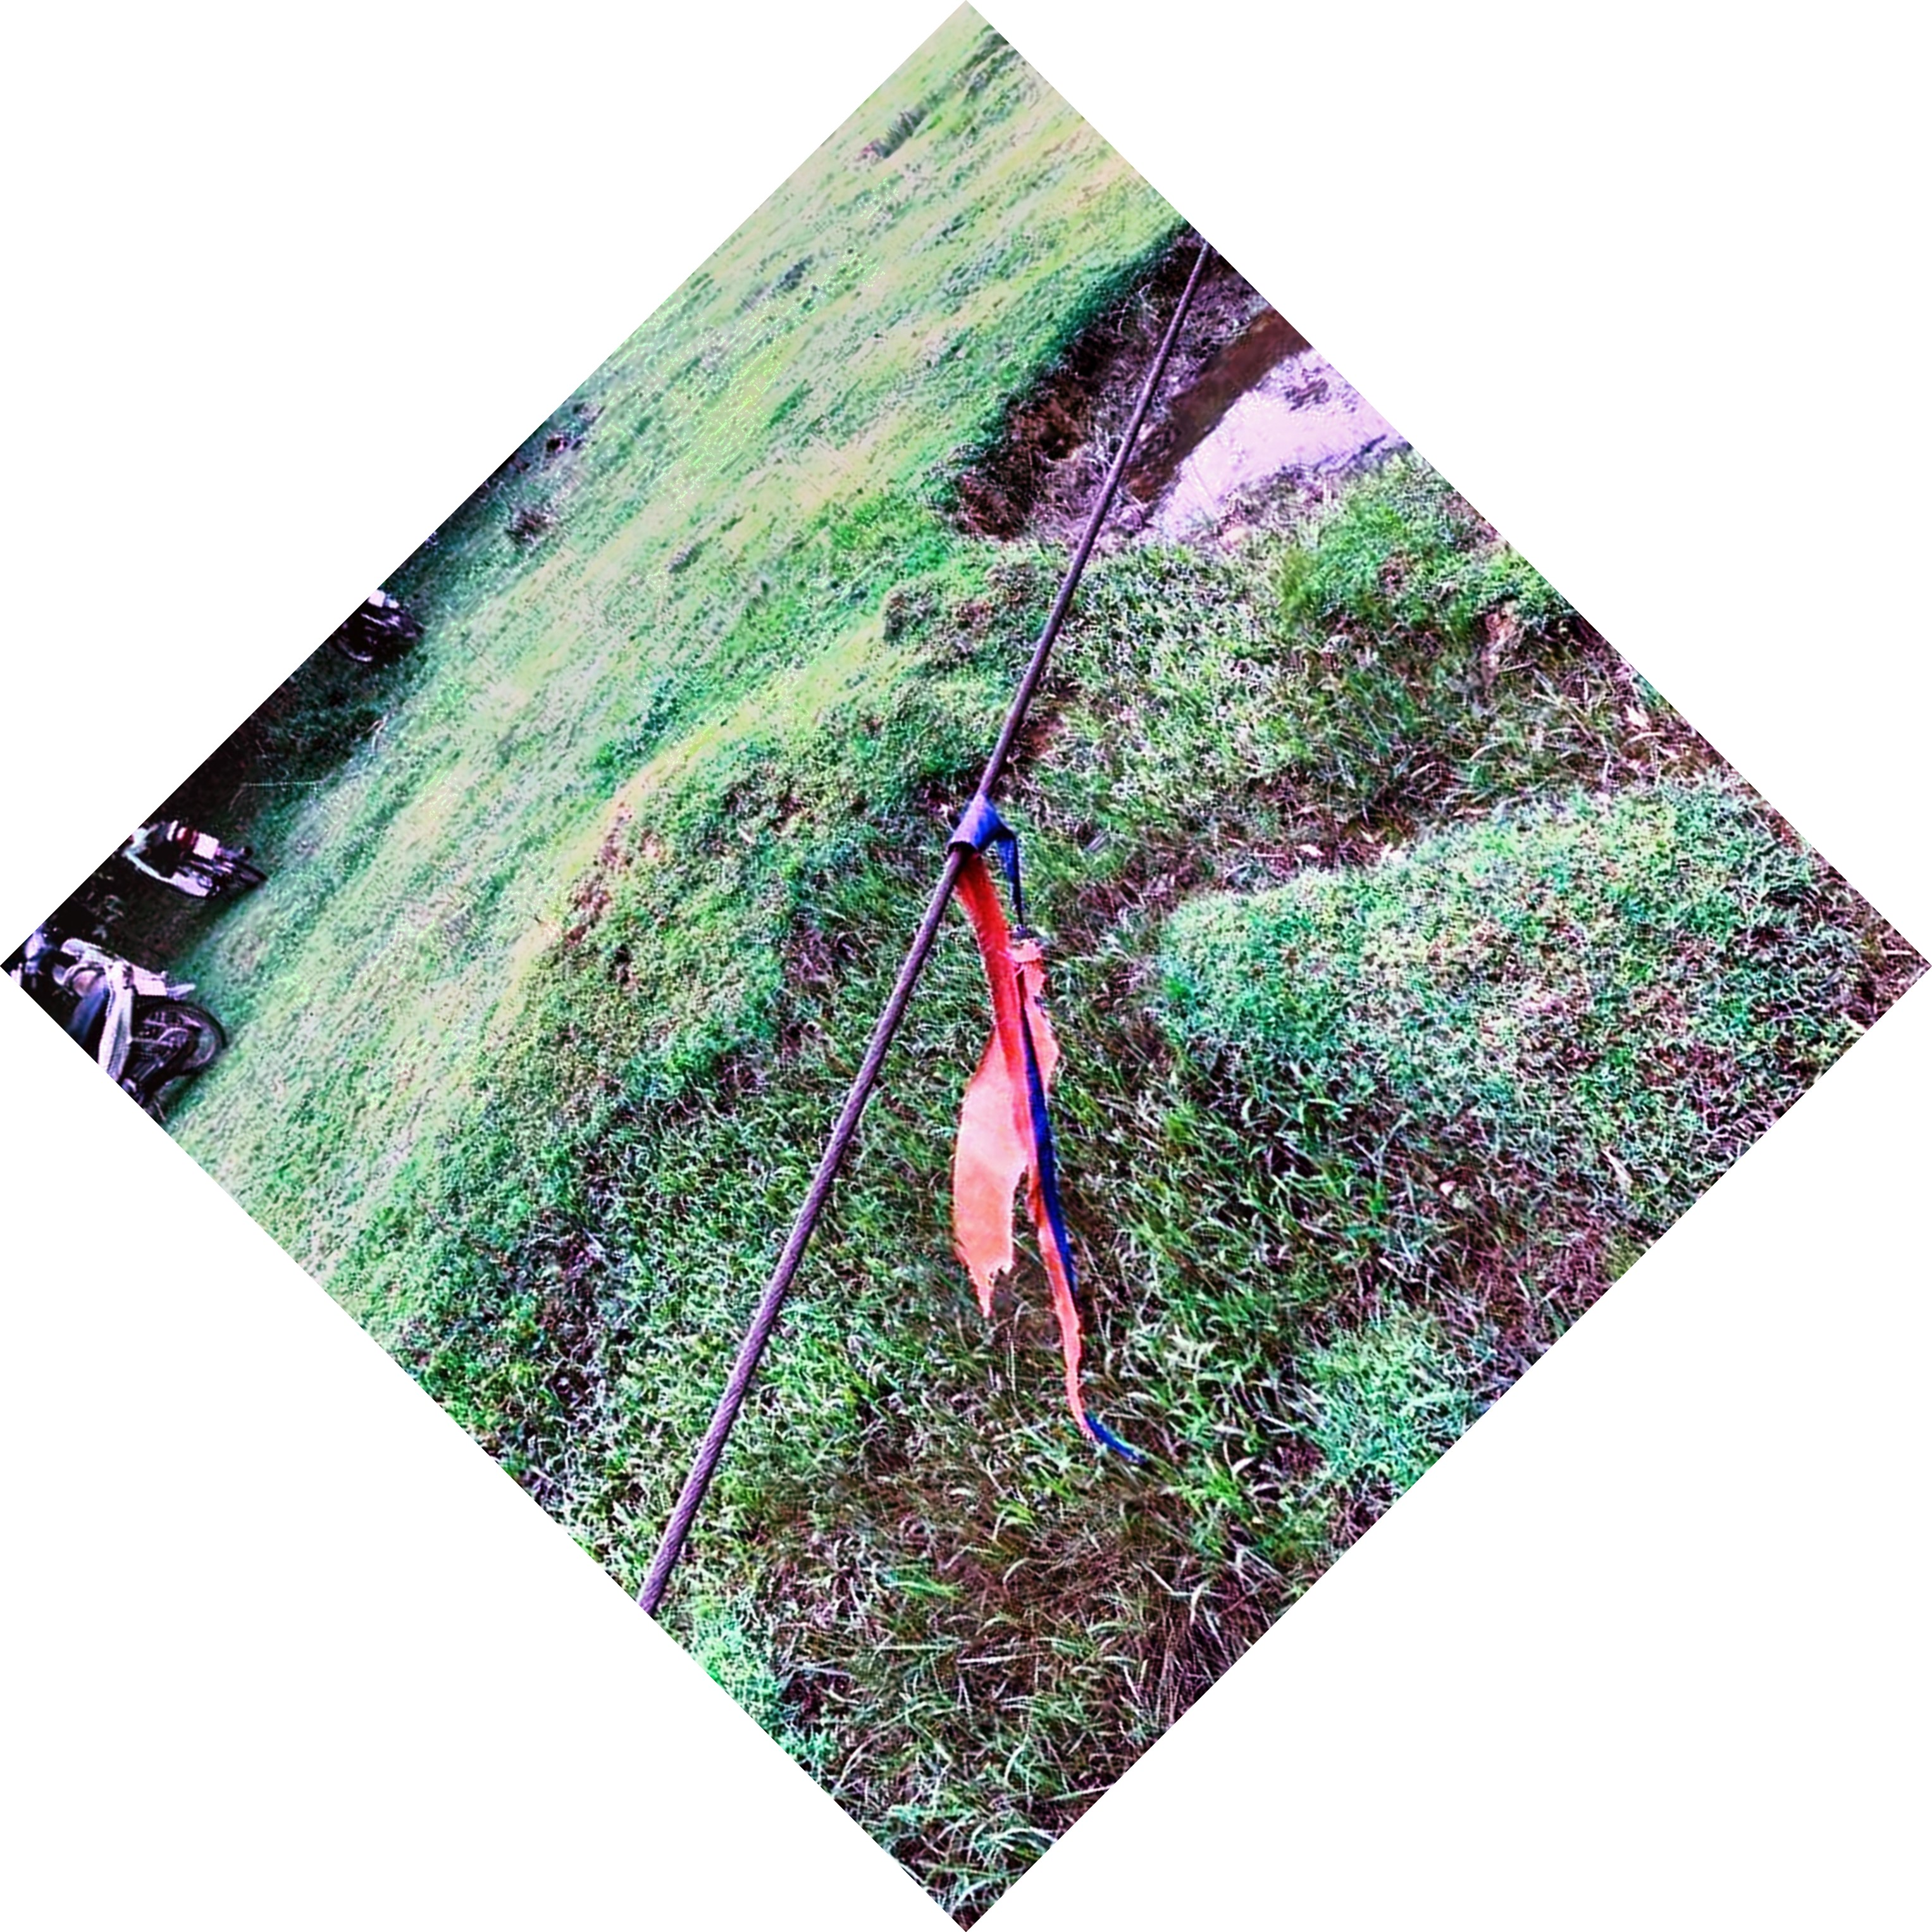wire foreign body: (909, 777, 1184, 1499)
